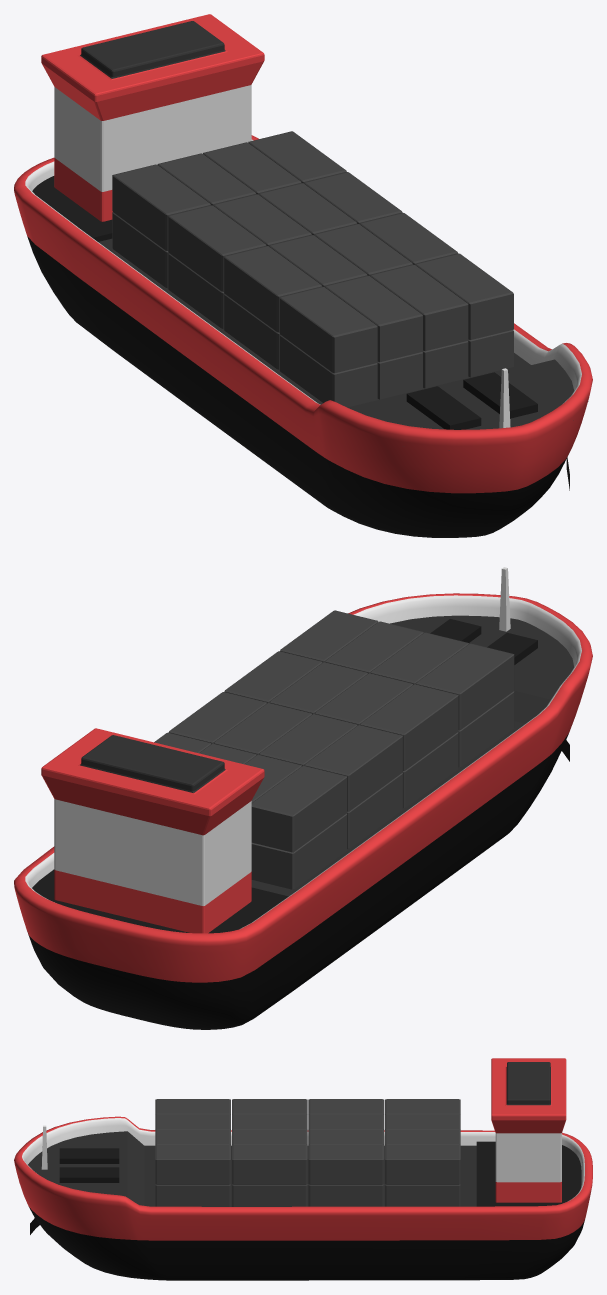
Rendered from Ship.fbx.
3 views of the same model, one above another, from view 1: azimuth 30°, elevation 25°; view 2: azimuth 150°, elevation 25°; view 3: azimuth 270°, elevation 25° (orthographic). The views are drawn at different scales.
Parts seen in each view (by area): view 1: Cube.003, Ship, Cube, Plane.001, Cube.001, Cube.004; view 2: Ship, Cube.003, Cube, Plane.001, Cube.004, Cube.001, Cube.002; view 3: Ship, Cube.003, Cube, Plane.001, Cube.004, Cube.001.
Boxes of the visible parts, <box> form: Cube.003: <box>112,131,513,407</box>; Ship: <box>14,135,592,537</box>; Cube: <box>41,14,264,221</box>; Plane.001: <box>98,238,588,450</box>; Cube.001: <box>406,372,537,429</box>; Cube.004: <box>32,176,112,241</box>; Ship: <box>14,593,592,1029</box>; Cube.003: <box>154,610,514,889</box>; Cube: <box>41,728,264,933</box>; Plane.001: <box>251,615,573,896</box>; Cube.004: <box>32,869,288,933</box>; Cube.001: <box>430,619,537,664</box>; Cube.002: <box>499,567,510,631</box>; Ship: <box>14,1116,592,1280</box>; Cube.003: <box>155,1099,460,1206</box>; Cube: <box>491,1058,566,1202</box>; Plane.001: <box>28,1131,476,1206</box>; Cube.004: <box>476,1141,581,1206</box>; Cube.001: <box>59,1148,119,1182</box>.
Bounding box in the file's own units: 290 × 274 × 842.
